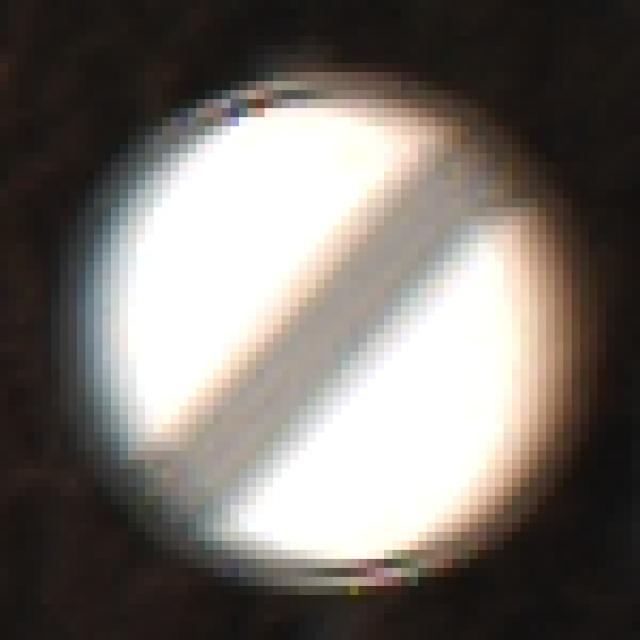restriction ends: (44, 70, 596, 595)
